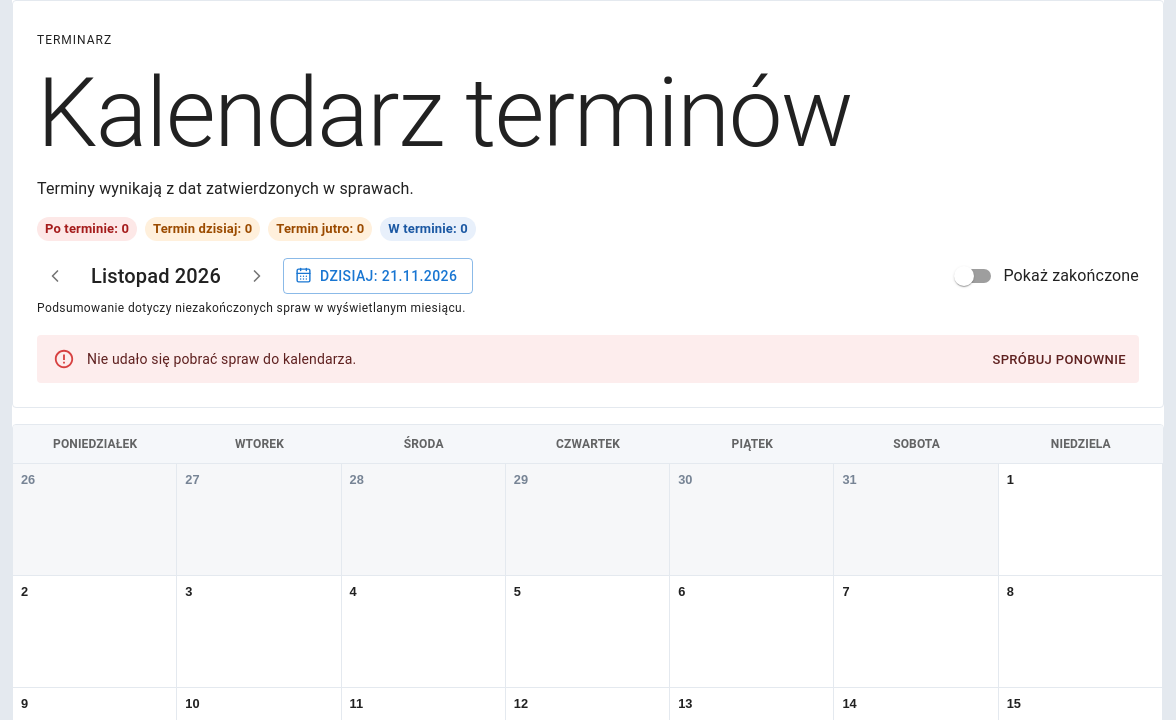
Test case: CalendarPage › shows an error with a retry when the cases cannot be loaded
The image size is (1176, 720).
Expected: the text "Nie udało się pobrać spraw do kalendarza." is shown, [87,351,356,367]
Click the button "Spróbuj ponownie". click: click(1059, 360)
box: [987,345,1131,376]
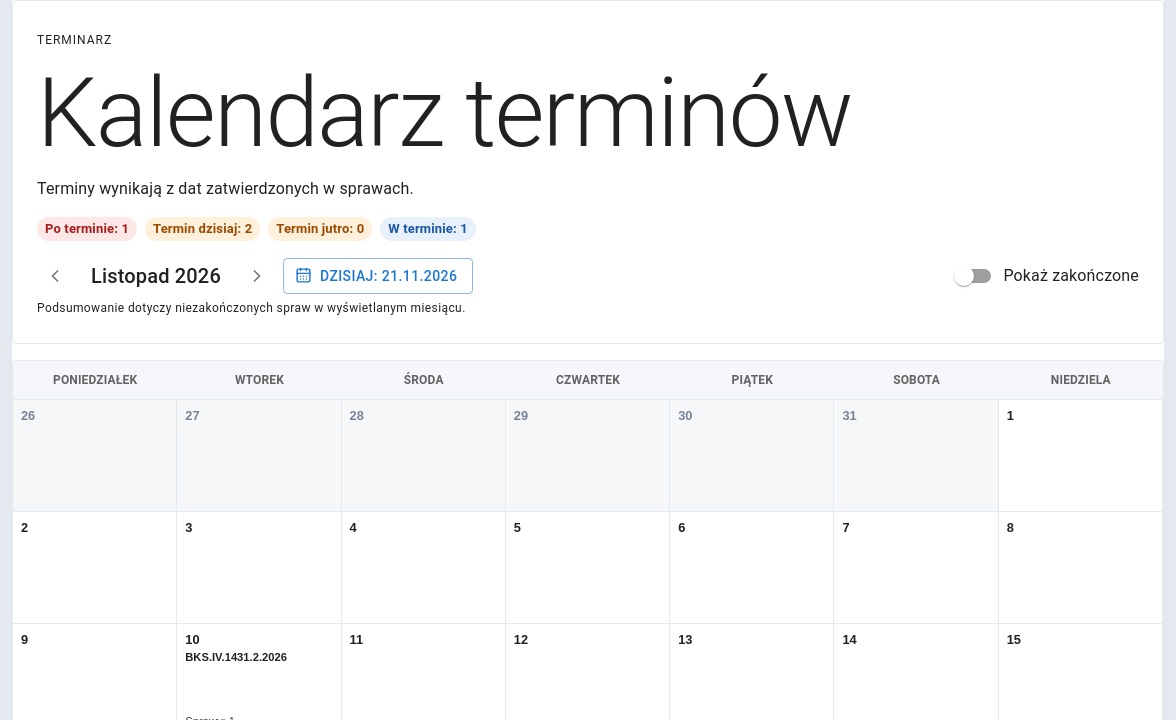
Expected: the text "Nie udało się pobrać spraw do kalendarza." is gone
